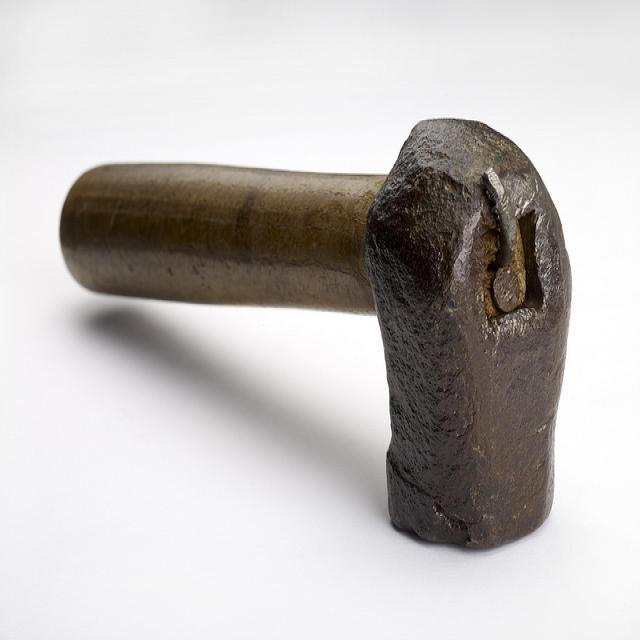hammer: (55, 106, 592, 560)
